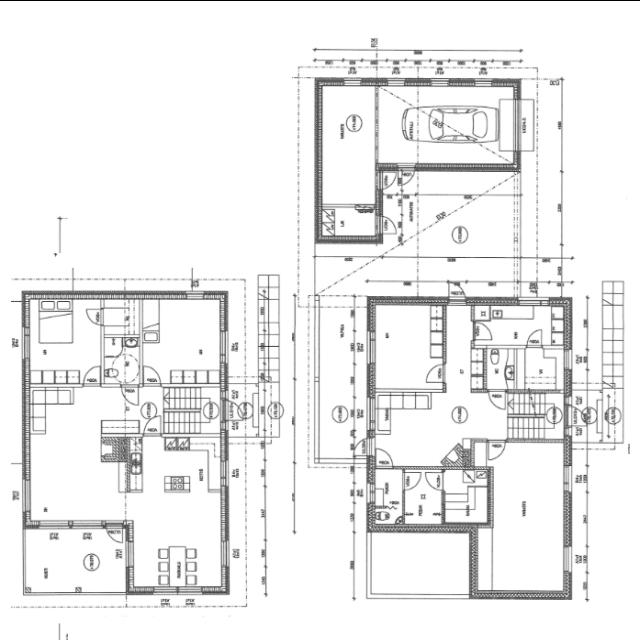door: (218, 398, 246, 424), (424, 467, 446, 494), (79, 365, 105, 387), (425, 362, 447, 386), (372, 215, 396, 237), (402, 467, 422, 493), (487, 386, 507, 412), (442, 280, 468, 300), (142, 413, 164, 436), (140, 364, 162, 387), (487, 433, 505, 461), (378, 165, 398, 190), (376, 445, 395, 469), (120, 383, 140, 405), (525, 327, 544, 349), (473, 321, 493, 341), (397, 167, 416, 187), (106, 524, 124, 544), (83, 309, 105, 325), (351, 441, 371, 456)
window: (36, 514, 106, 534), (144, 582, 204, 596), (513, 95, 525, 158), (217, 323, 229, 365), (516, 294, 551, 308), (21, 476, 34, 513), (216, 537, 230, 569), (21, 325, 33, 361), (366, 331, 378, 366), (562, 543, 574, 576), (559, 344, 573, 372), (218, 454, 229, 488), (562, 462, 573, 496), (367, 396, 377, 431), (125, 536, 135, 568), (471, 77, 497, 89), (183, 288, 207, 300), (366, 482, 378, 506), (344, 74, 364, 88), (387, 76, 409, 86), (429, 76, 451, 86), (367, 435, 375, 457)
